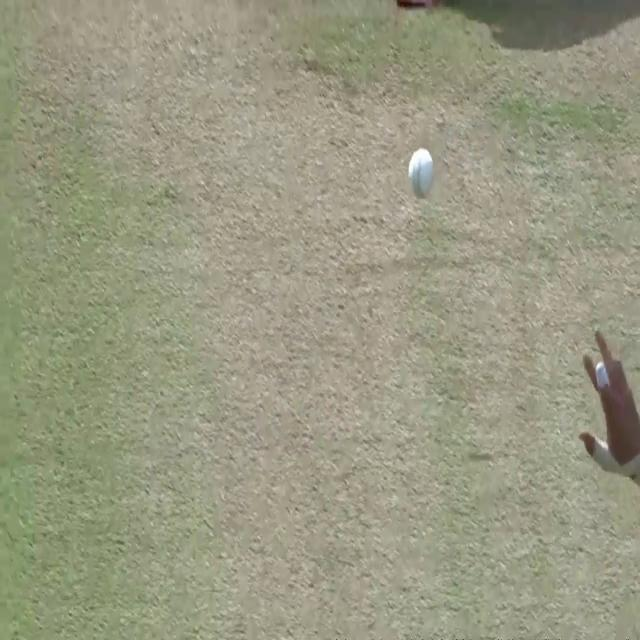ball: (408, 145, 434, 197)
